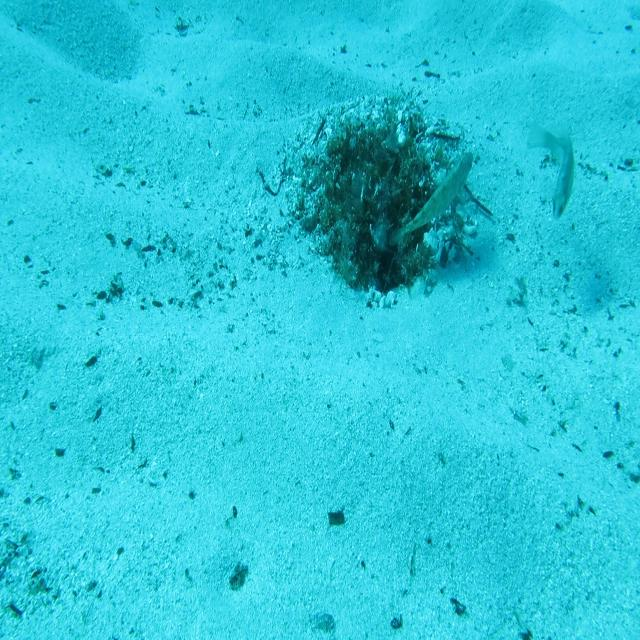ROLL: (388, 150, 475, 248)
core_nest: (354, 131, 415, 173)
female: (526, 116, 578, 225)
nest: (286, 86, 488, 322)
